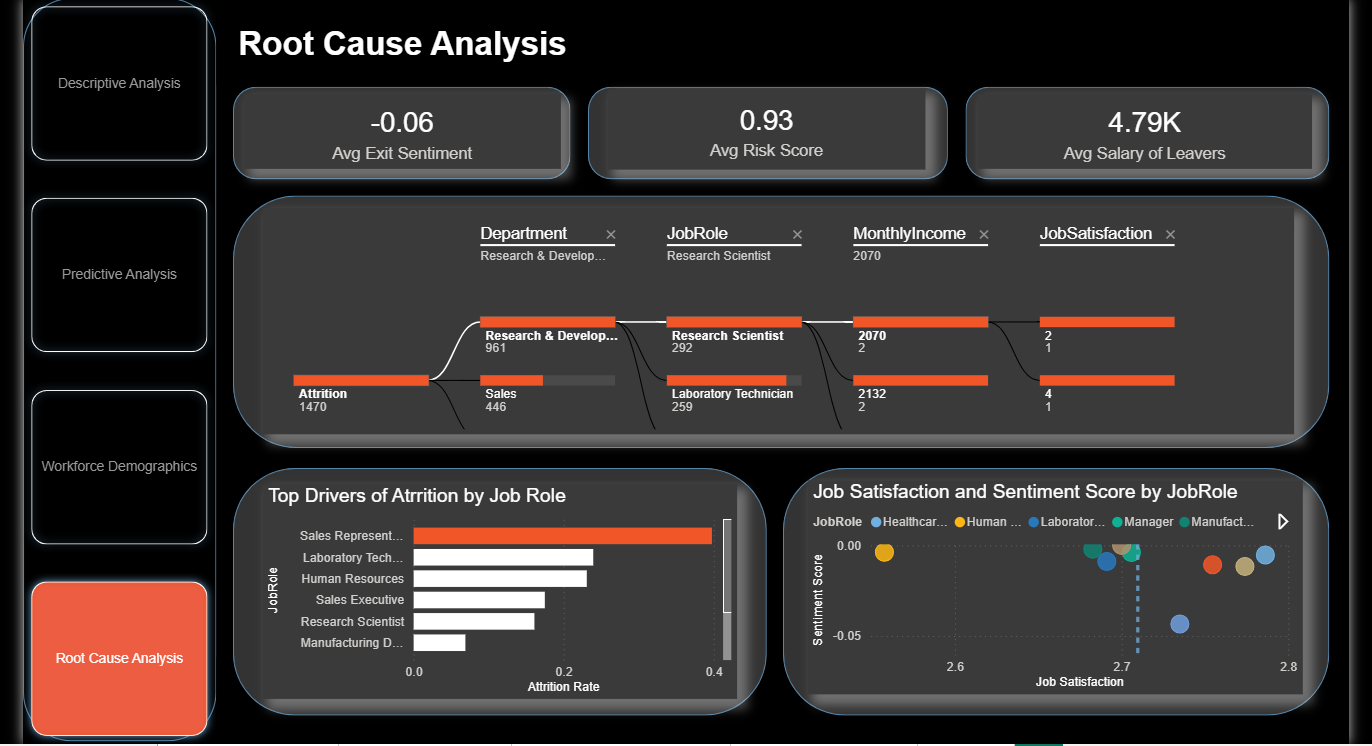

The dashboard page shown, as its layout file describes it:
{"tool":"powerbi","page":{"name":"Root Cause Analysis","canvas":[1280,720],"ordinal":3},"visuals":[{"type":"textbox","box":[202.7,21.3,1041.3,57.3],"z":2000},{"type":"shape","box":[742.7,485.3,501.3,197.3],"z":4000},{"type":"shape","box":[0,0,186.7,717.3],"z":5000},{"type":"shape","box":[213.3,485.3,502.7,197.3],"z":6000},{"type":"shape","box":[213.3,236,1030.7,226.7],"z":7000},{"type":"clusteredBarChart","title":"Top Drivers of Atrrition by JOb Role","fields":{"Category":["hr_project employee_data.JobRole"],"Y":["hr_project employee_data.Attrition Rate"]},"box":[236,254.7,977.3,184],"z":8000},{"type":"scatterChart","fields":{"X":["Avg(hr_project employee_data.JobSatisfaction)"],"Y":["Avg(hr_project ml_scores.SentimentScore)"],"Series":["hr_project employee_data.JobRole"]},"box":[773.3,498.7,449.3,172],"z":9000},{"type":"pivotTable","fields":{"Rows":["hr_project employee_data.Department","hr_project employee_data.JobRole","hr_project employee_data.WorkLifeBalance"],"Values":["hr_project employee_data.Attrition Rate"]},"box":[224,508,474.7,152],"z":10000},{"type":"shape","box":[202.7,100,325.3,109.3],"z":11000},{"type":"shape","box":[545.3,100,342.7,109.3],"z":13000},{"type":"shape","box":[908,100,336,109.3],"z":14000},{"type":"card","fields":{"Values":["Avg(hr_project ml_scores.FlightRiskScore)"]},"box":[565.3,109.3,294.7,93.3],"z":14250},{"type":"card","fields":{"Values":["Avg(hr_project ml_scores.SentimentScore)"]},"box":[213.3,112,294.7,90.7],"z":14375},{"type":"card","fields":{"Values":["Avg(hr_project employee_data.MonthlyIncome)"]},"box":[920,110.7,313.3,92],"z":14500},{"type":"pageNavigator","box":[0,0,186.7,720],"z":15000}]}

Visuals, with their boxes on the page's 1280x720 design canvas (x1, y1, x2, y2). These are canvas units, not pixel positions in the 1372x746 screenshot, which may show the page scaled, cropped or inside an application window:
textbox: left=203, top=21, right=1244, bottom=79
shape: left=743, top=485, right=1244, bottom=683
shape: left=0, top=0, right=187, bottom=717
shape: left=213, top=485, right=716, bottom=683
shape: left=213, top=236, right=1244, bottom=463
"Top Drivers of Atrrition by JOb Role" clusteredBarChart: left=236, top=255, right=1213, bottom=439
scatterChart - Avg(hr_project employee_data.JobSatisfaction) x Avg(hr_project ml_scores.SentimentScore): left=773, top=499, right=1223, bottom=671
pivotTable - hr_project employee_data.Department x hr_project employee_data.JobRole: left=224, top=508, right=699, bottom=660
shape: left=203, top=100, right=528, bottom=209
shape: left=545, top=100, right=888, bottom=209
shape: left=908, top=100, right=1244, bottom=209
card - Avg(hr_project ml_scores.FlightRiskScore): left=565, top=109, right=860, bottom=203
card - Avg(hr_project ml_scores.SentimentScore): left=213, top=112, right=508, bottom=203
card - Avg(hr_project employee_data.MonthlyIncome): left=920, top=111, right=1233, bottom=203
pageNavigator: left=0, top=0, right=187, bottom=720
